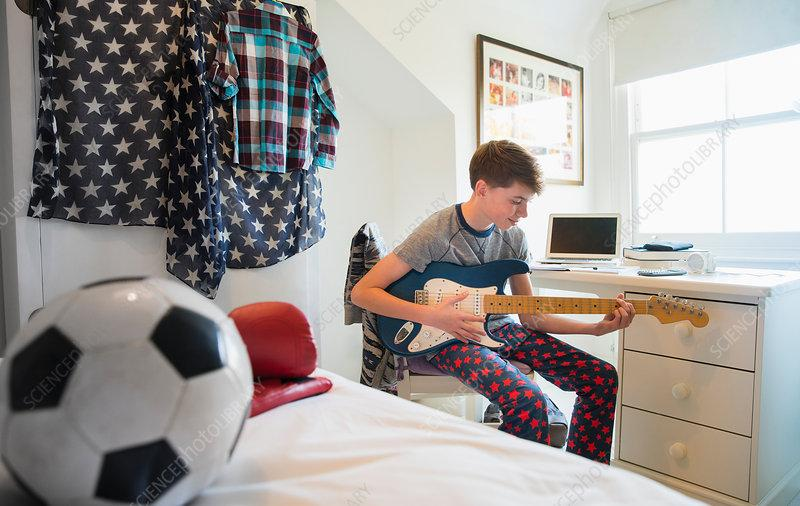acousticguitar: (369, 264, 713, 359)
